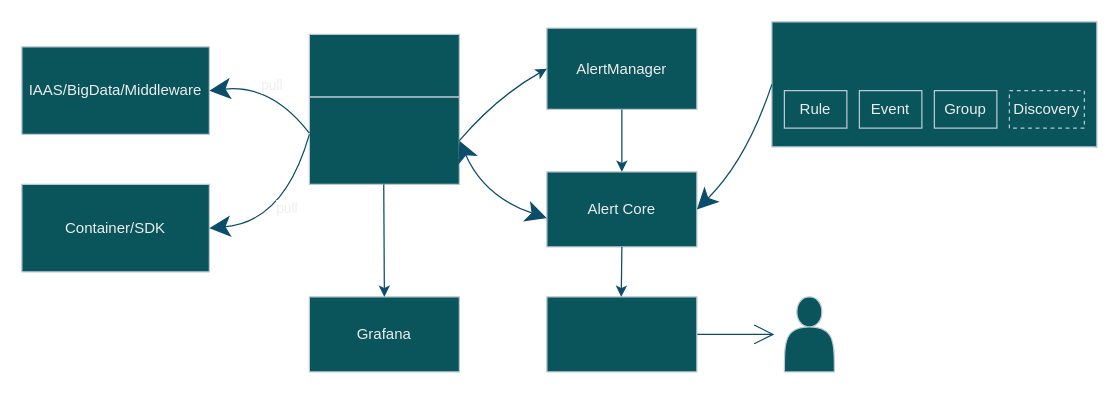
Some shapes in this 1119 by 394 pixel diagram are drawn without their labels. The box of each missing label's shape, as (x1, y1, x2, y2) in pixels:
Notice: (546, 296, 697, 372)
Prometheus: (308, 96, 459, 184)
Service Monitor/ Json File: (308, 33, 459, 97)
Web UI: (771, 21, 1097, 147)
